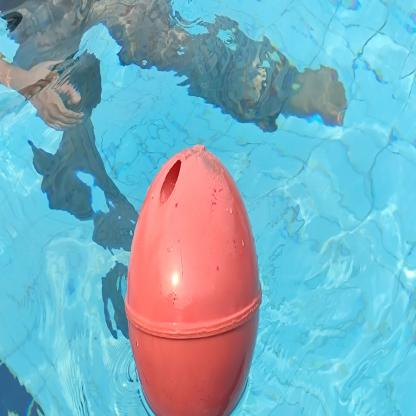red_buoy: (124, 142, 264, 416)
